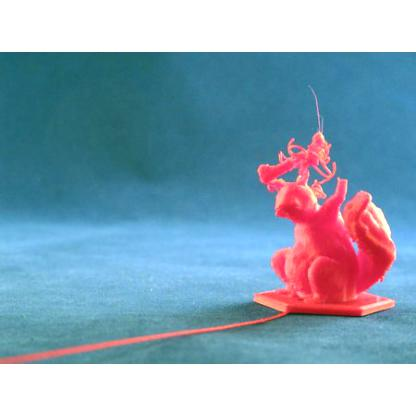fail: (290, 83, 350, 180)
